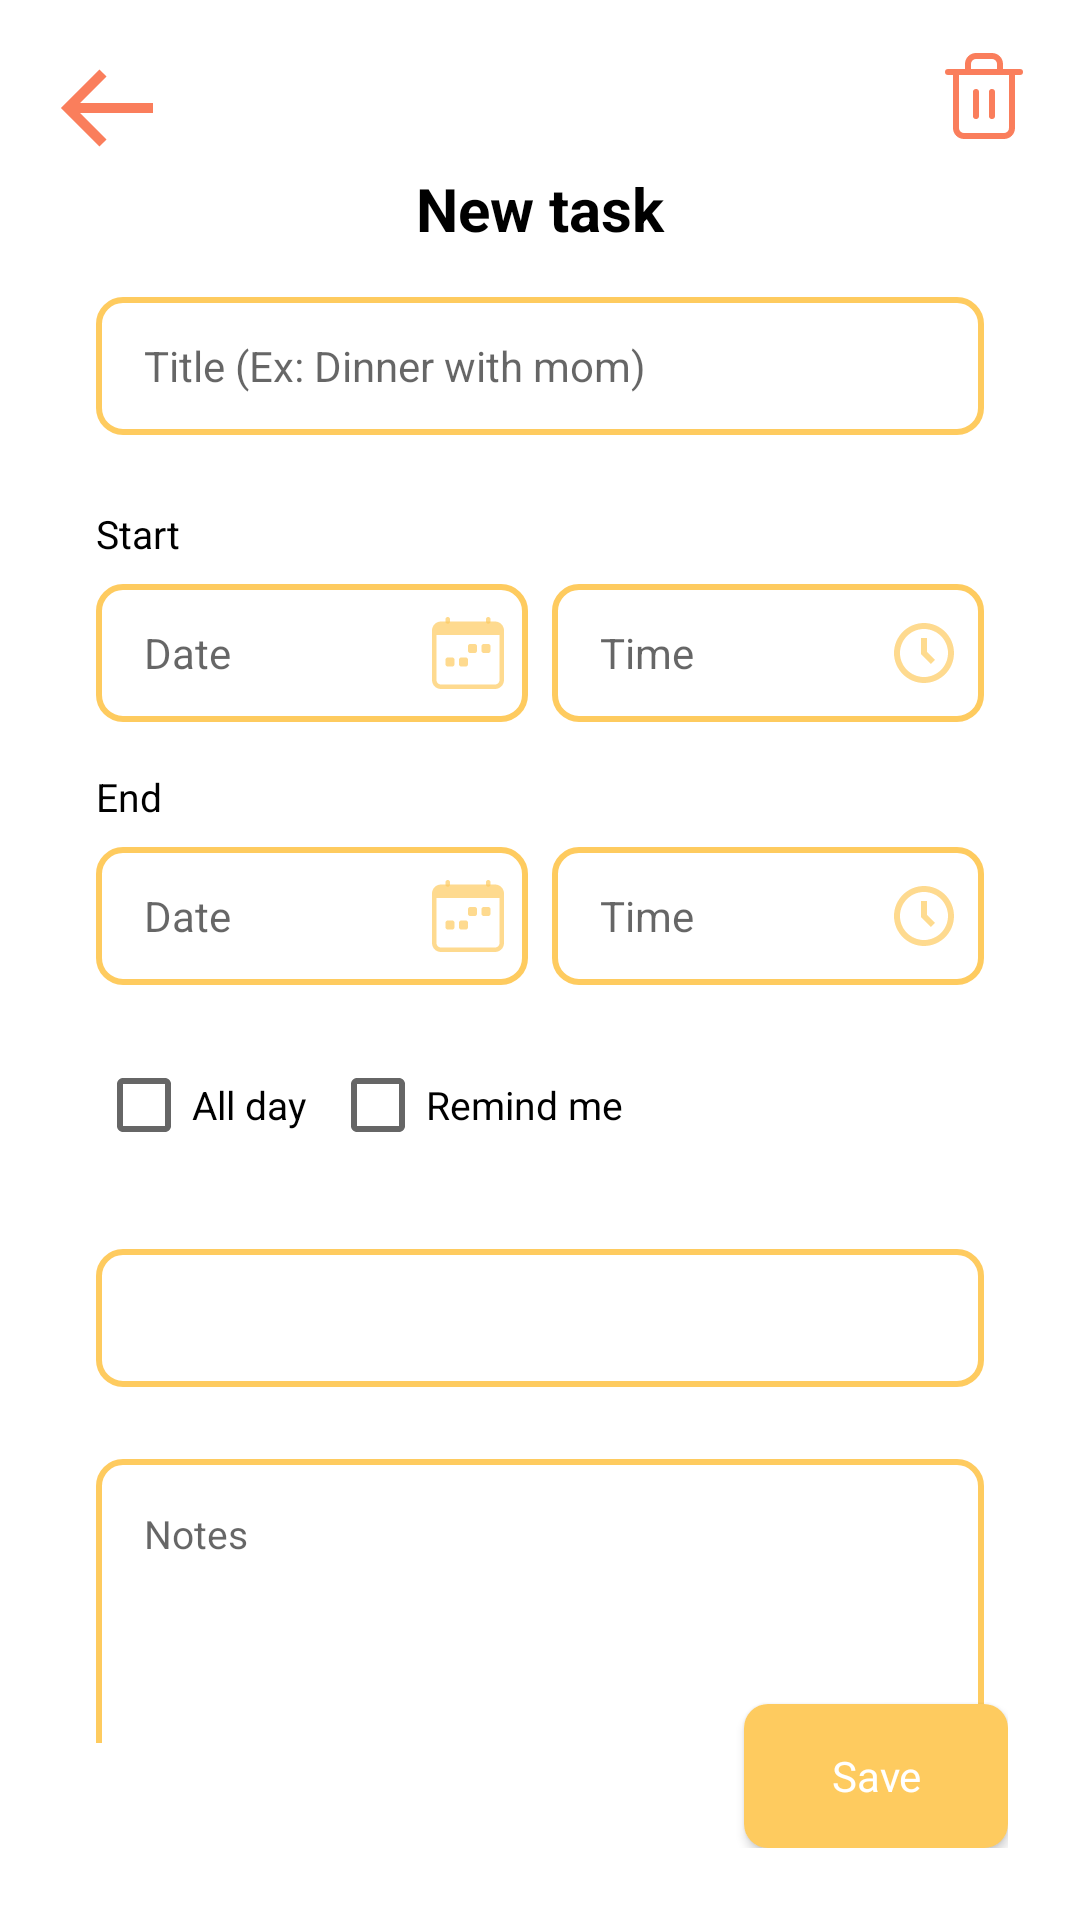

Locate icon controls on the screen. Image size 1080*1920, boxes as (x1, y1, x2, y2).
back: (61, 69, 153, 147)
trash: (945, 53, 1023, 139)
